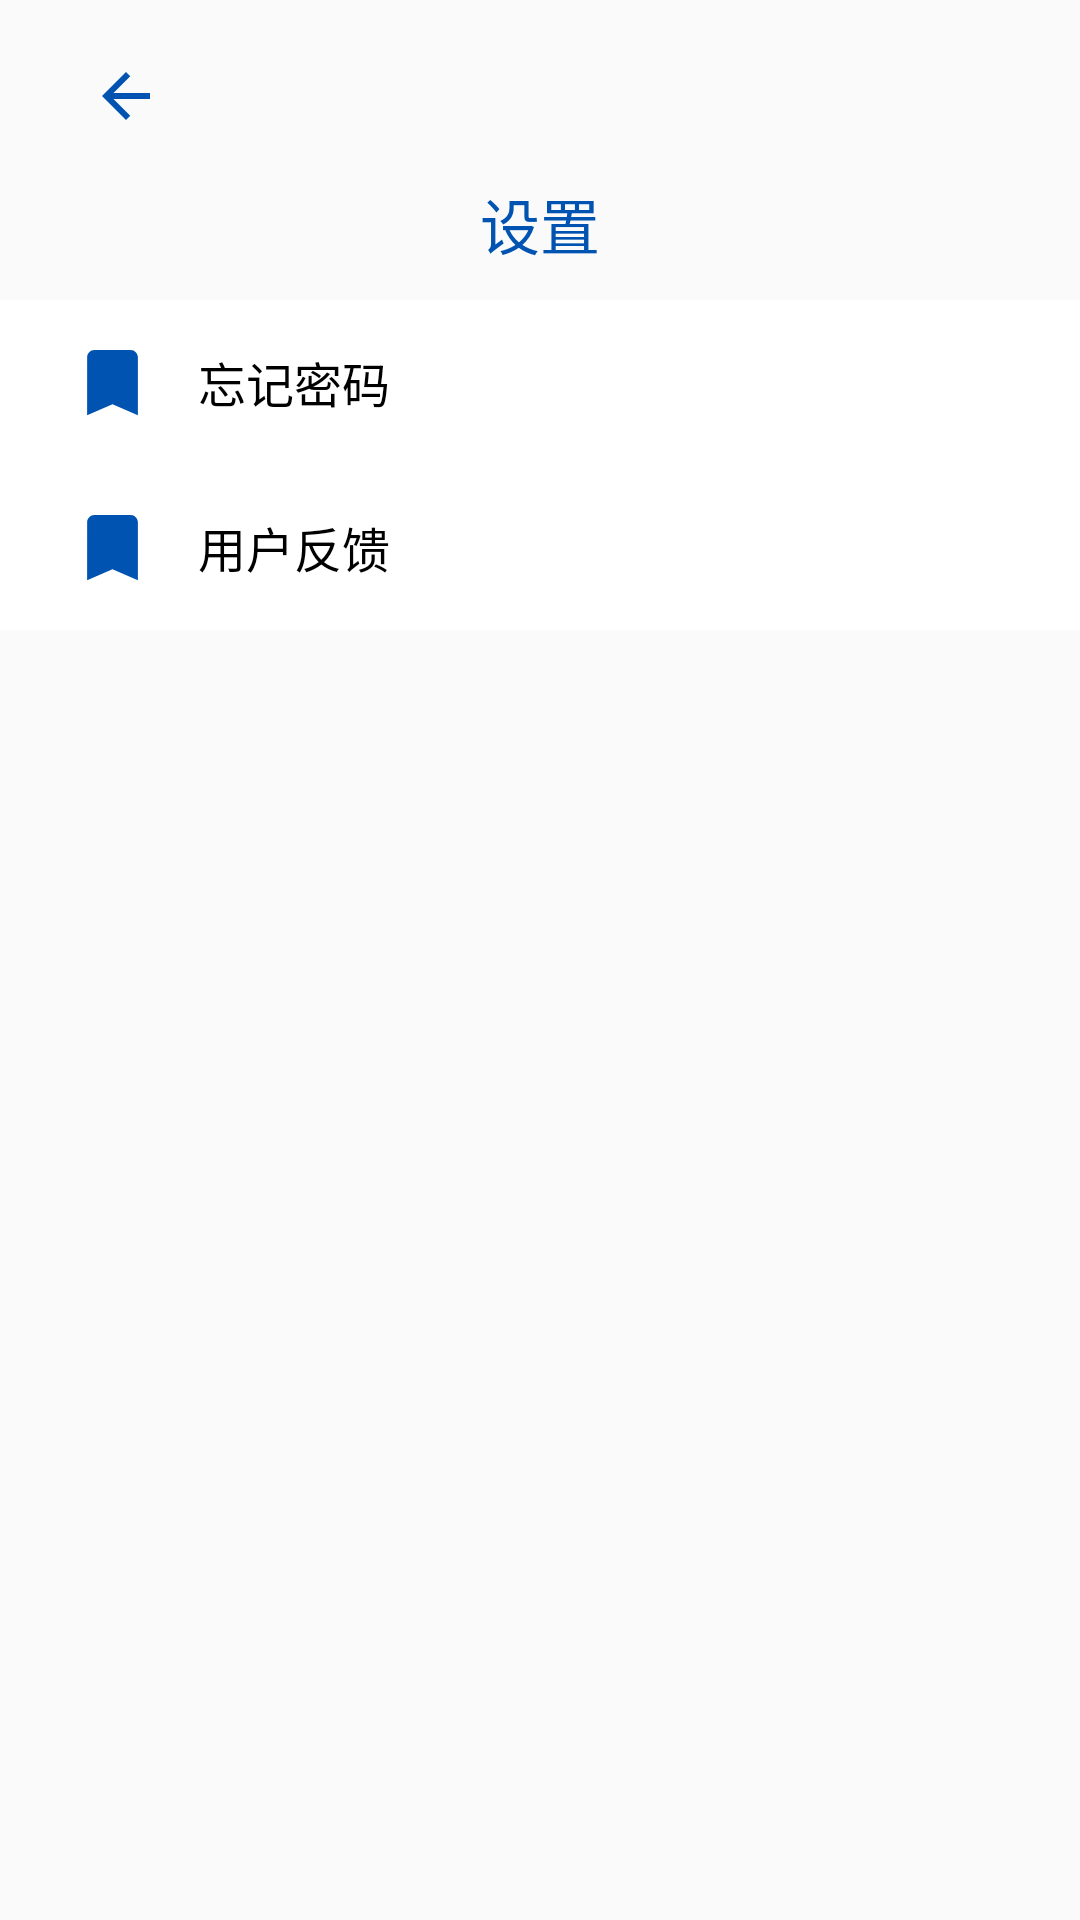

Named icons in this screenshot (1080px×1920px) and their bounding boxes, (x1, y1, x2, y2):
bookmark: (87, 350, 138, 415), (87, 515, 138, 580)
